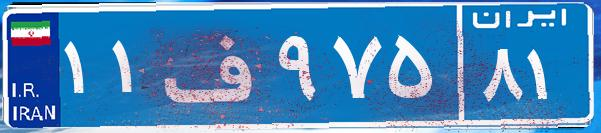1: (57, 26, 110, 107), (110, 28, 158, 105), (525, 38, 570, 115)
5: (385, 28, 445, 110)
7: (330, 28, 385, 110)
8: (475, 38, 525, 113)
9: (273, 28, 330, 110)
ف: (158, 15, 273, 115)
